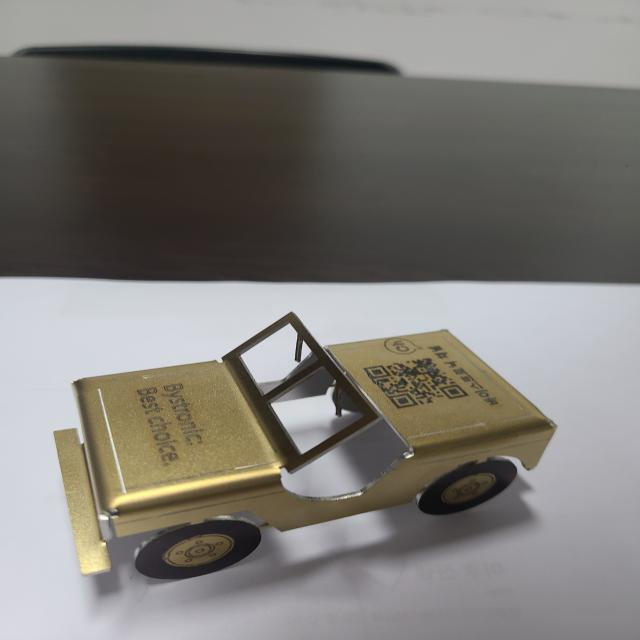tire: (135, 518, 263, 580), (419, 458, 517, 516)
